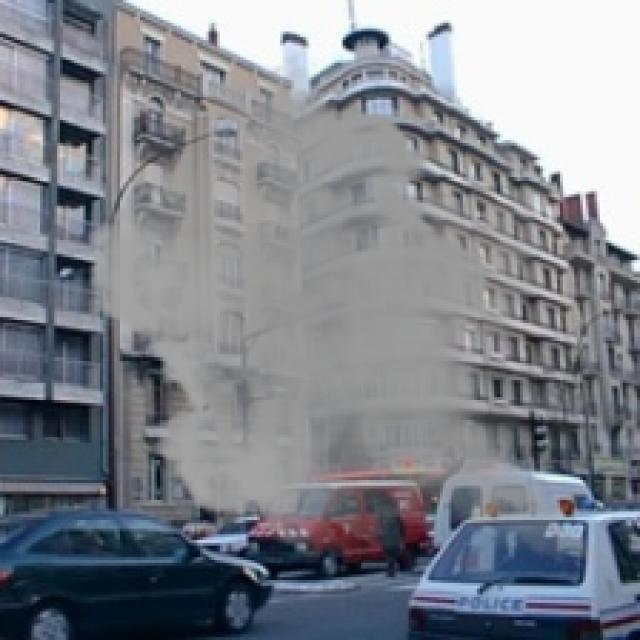Smoke: (74, 51, 632, 578)
